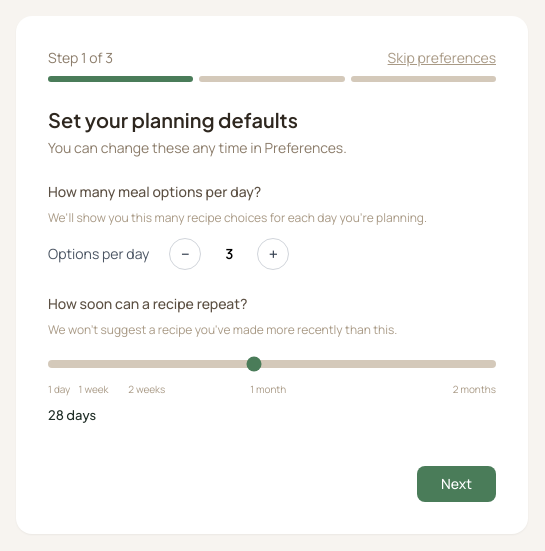
T10/T11 - tag bucket exclusivity in onboarding › T10 - preferred tags are not available for limited or avoided
Go to step 2 (preferred tags)
Step 1. Click the button "Next" → (456, 484), box [417,466,496,502]
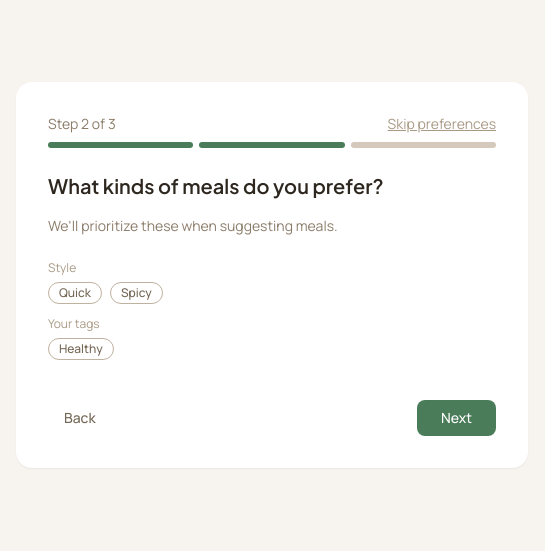
Select Healthy in preferred
Step 2. Click the button "Healthy" → (81, 349), box [48,338,114,360]
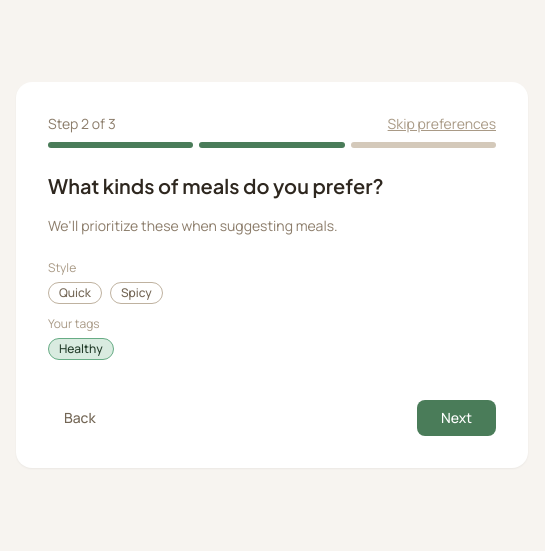
Go to step 3 (limit/avoid)
Step 3. Click the button "Next" → (456, 418), box [417,400,496,436]
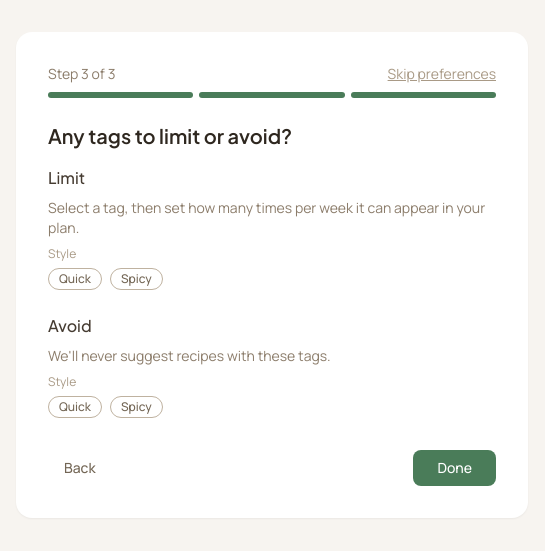
Check: the 1st button "Quick" is shown, box [48,268,102,290]
Check: no buttons "Healthy" are shown
